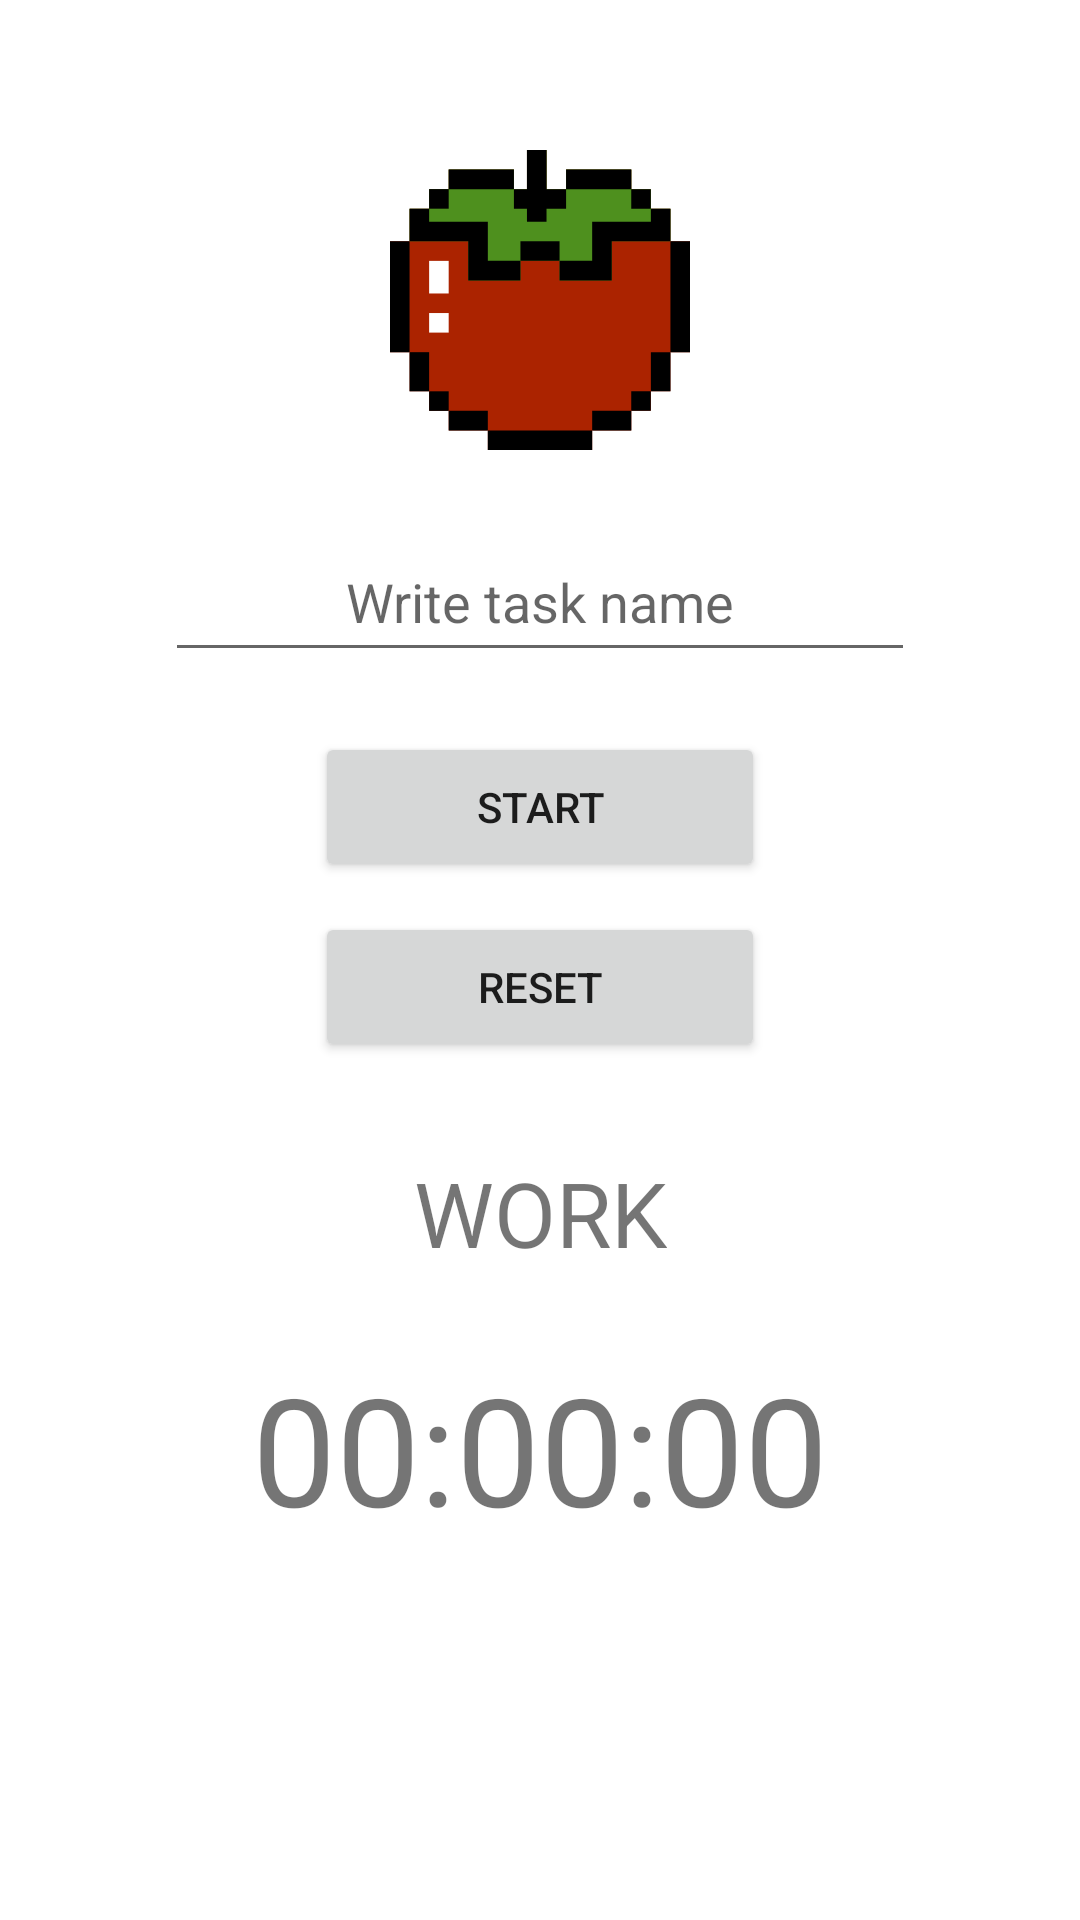

Icons on this 1080px×1920px Android screen, each with the point to tap as point (x, y):
tomato: point (540, 300)
